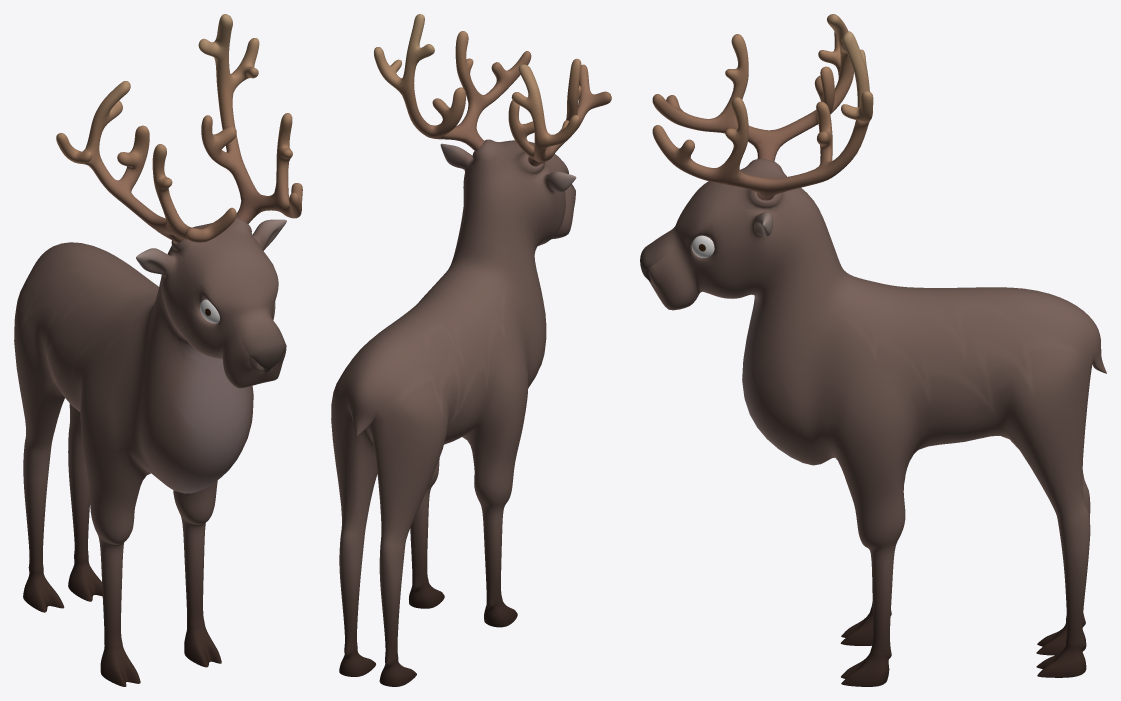
The model's file is deer.FBX.
3 renders of one model, left to right at view 1: azimuth 30°, elevation 25°; view 2: azimuth 150°, elevation 25°; view 3: azimuth 270°, elevation 25°, orthographic. The views are drawn at different scales.
Parts seen in each view (by area): view 1: deer; view 2: deer; view 3: deer.
Boxes of the visible parts, x1,y1,x2,y2 form: deer: [14, 14, 302, 686]; deer: [331, 14, 611, 686]; deer: [640, 14, 1106, 686].
Size of the model in its own units: 119 by 343 by 221.
